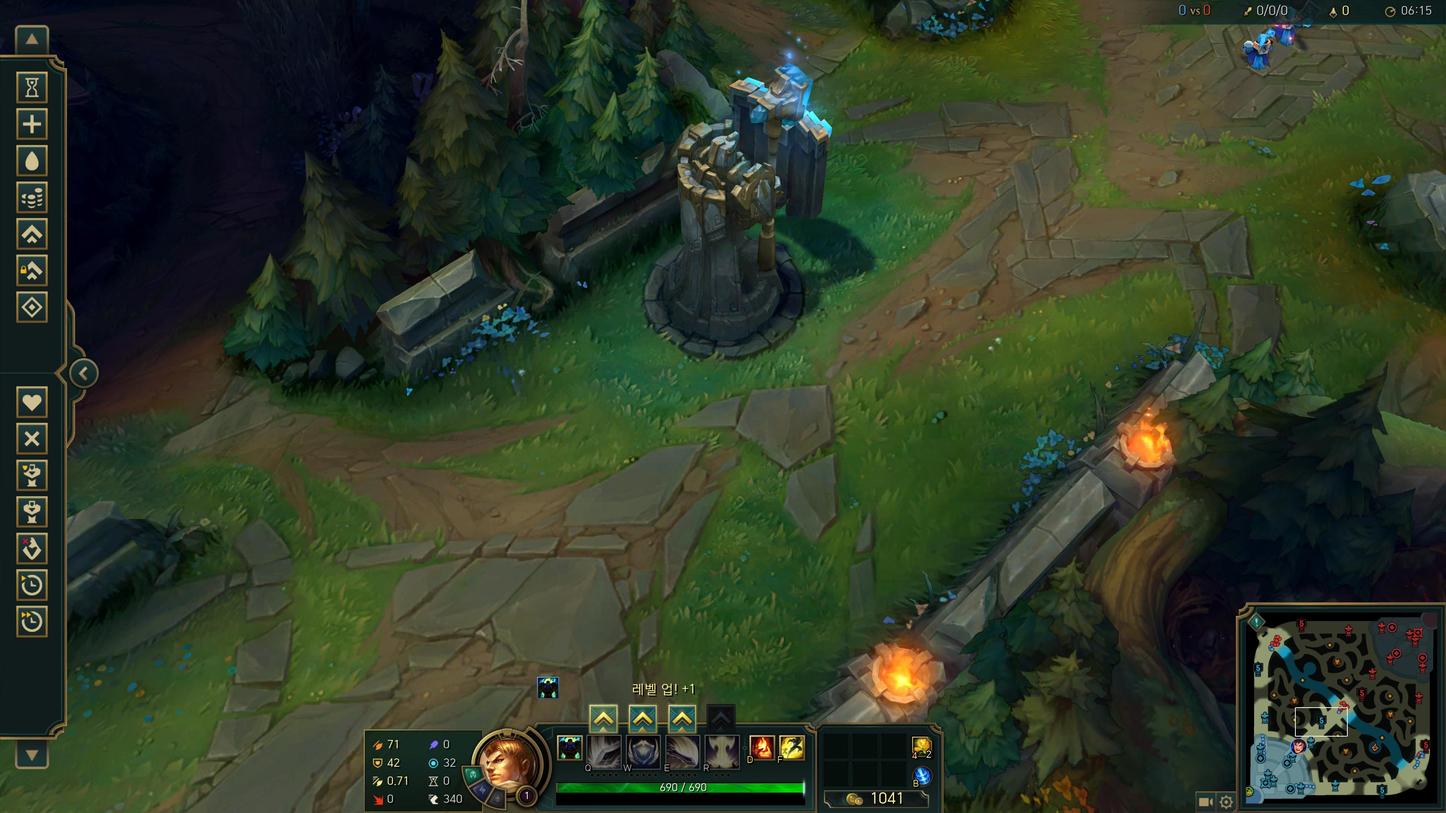ally-caster-minion: (1244, 24, 1294, 69)
ally-tower: (643, 62, 831, 361)
